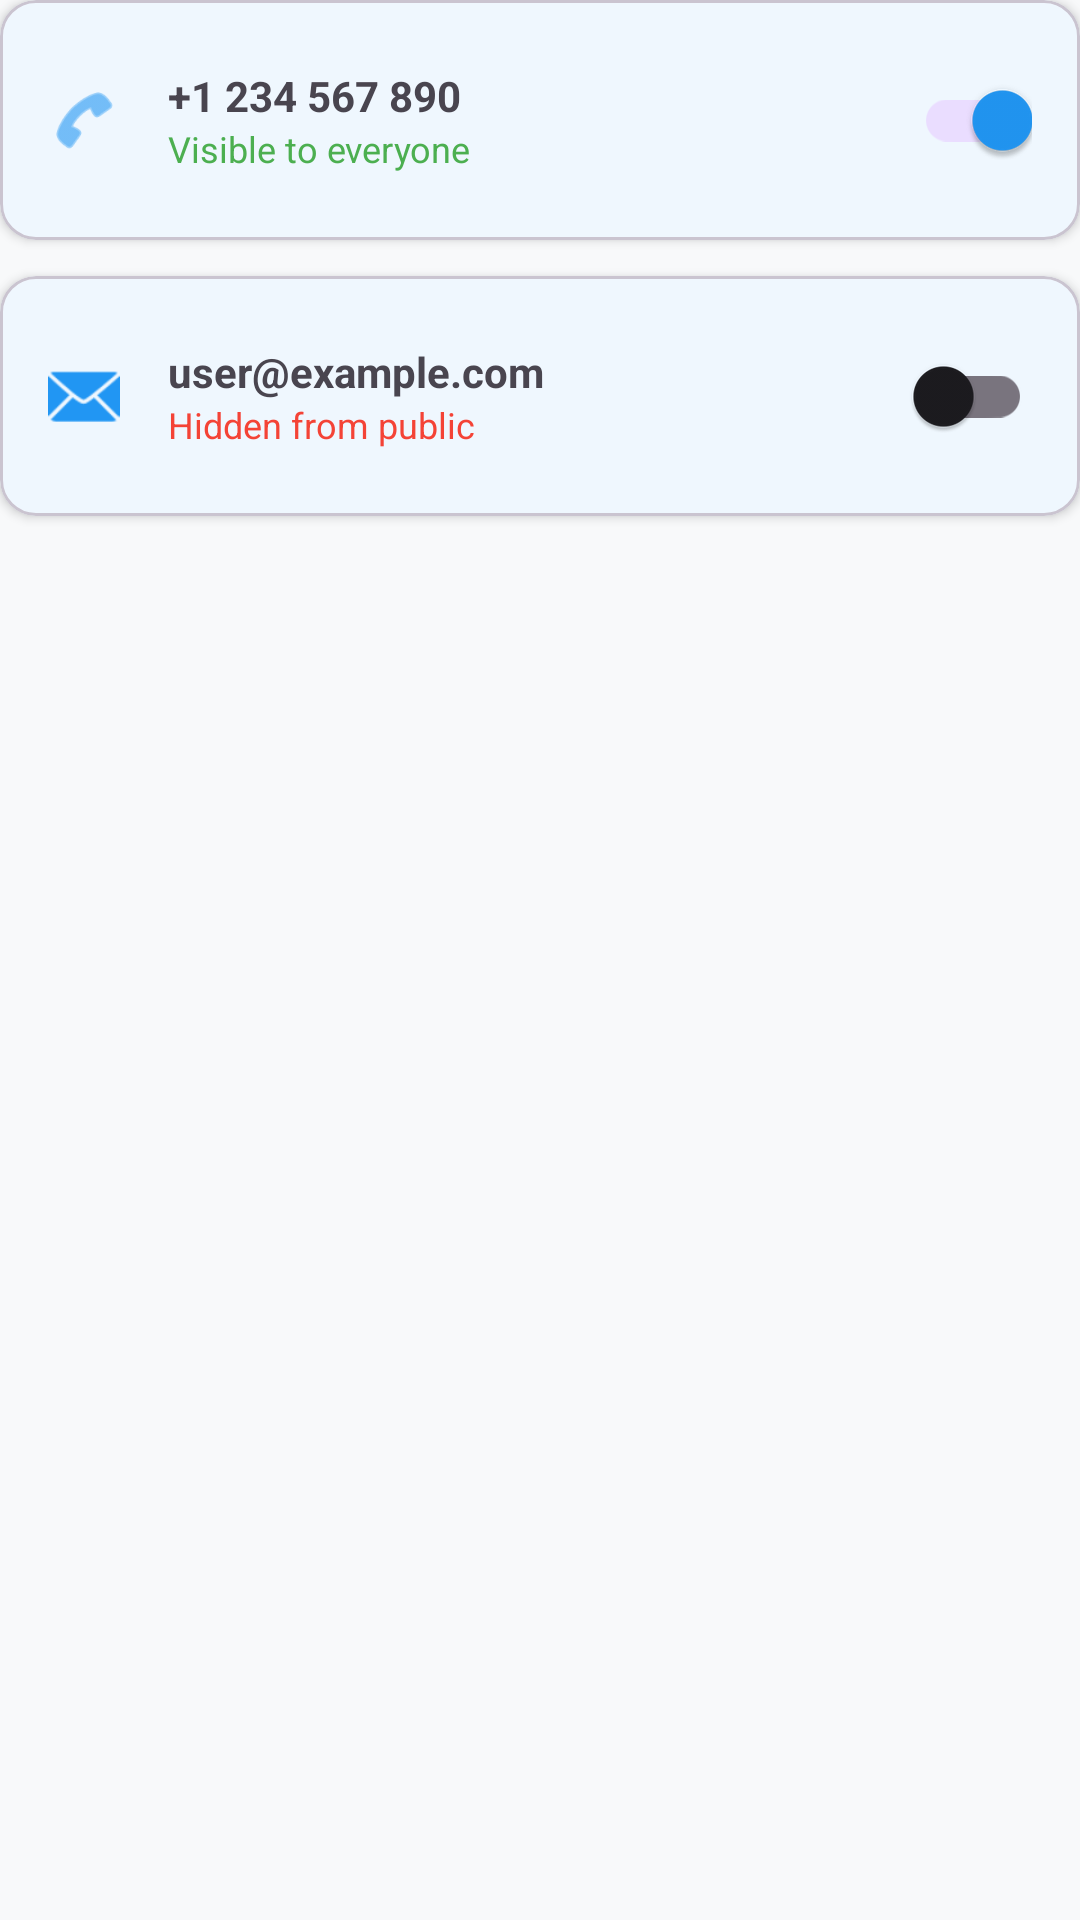

Where to tap for icons on this 1080 × 1920 app screen, as [x,y]:
call: [84,120]
email: [84,396]
